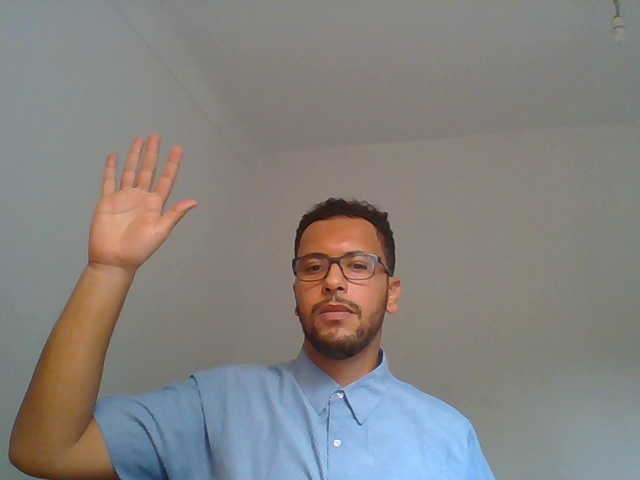hello: (34, 116, 219, 402)
